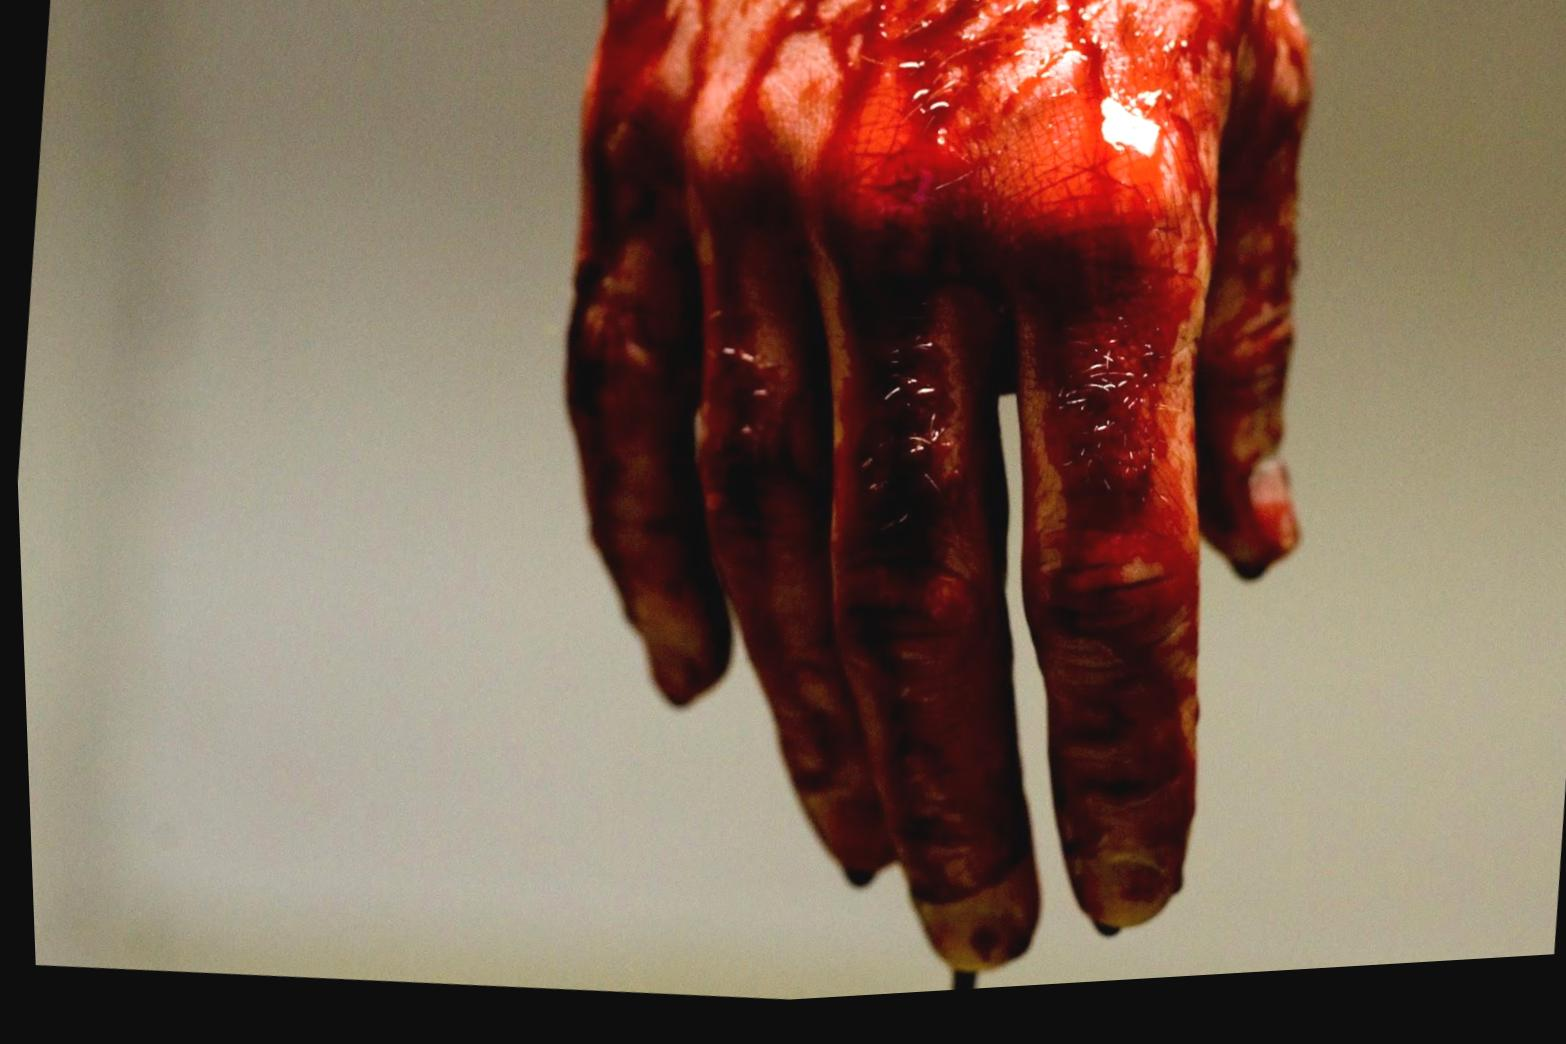Fire: (564, 0, 1311, 1001)
